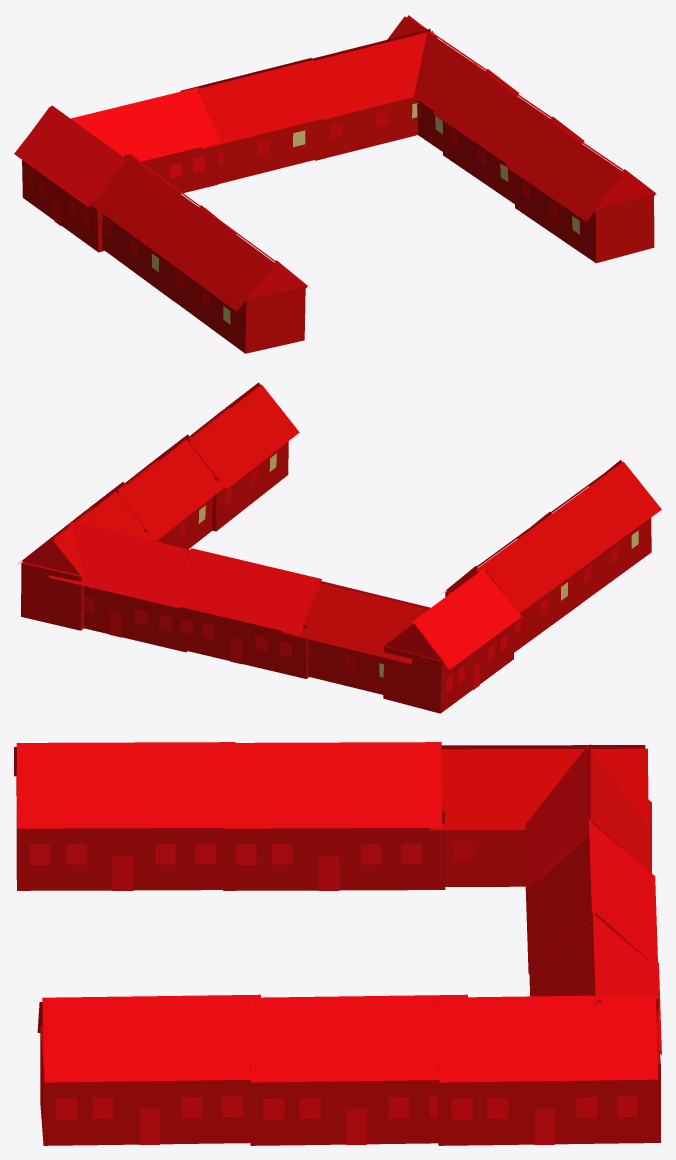
Rendered from POMPEII HOUSE STRUCTURE B322.fbx.
3 renders of one model, top to bottom at view 1: azimuth 30°, elevation 25°; view 2: azimuth 150°, elevation 25°; view 3: azimuth 270°, elevation 25°, orthographic. The views are drawn at different scales.
Visible parts, largest first — view 1: Plane.003; view 2: Plane.003; view 3: Plane.003.
Part boxes in pixels (<box>): Plane.003: <box>14,15,657,353</box>; Plane.003: <box>18,382,661,713</box>; Plane.003: <box>14,742,661,1145</box>.
Size of the model in its own units: 2926 by 576 by 2588.
